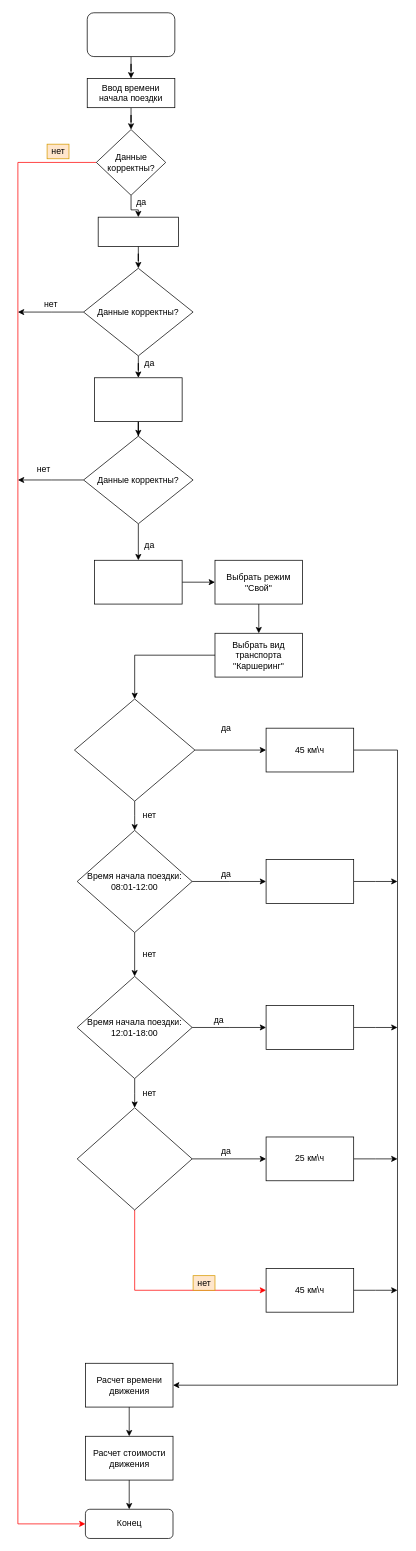
Some shapes in this 416 by 1551 pixel diagram are drawn without their labels. The shapes that lost their labels are listed below. From the top down, each one's centre as x and y in pixels, then its label:
point (131, 34): Начало
point (137, 231): Ввод "Откуда"
point (138, 399): Ввод "Куда"
point (138, 582): Расчет расстояния (км)
point (134, 749): Время начала поездки: 00:01-08:00
point (309, 881): 30 км\ч
point (309, 1027): 40 км\ч
point (134, 1158): Время начала поездки: 18:01-22:00
